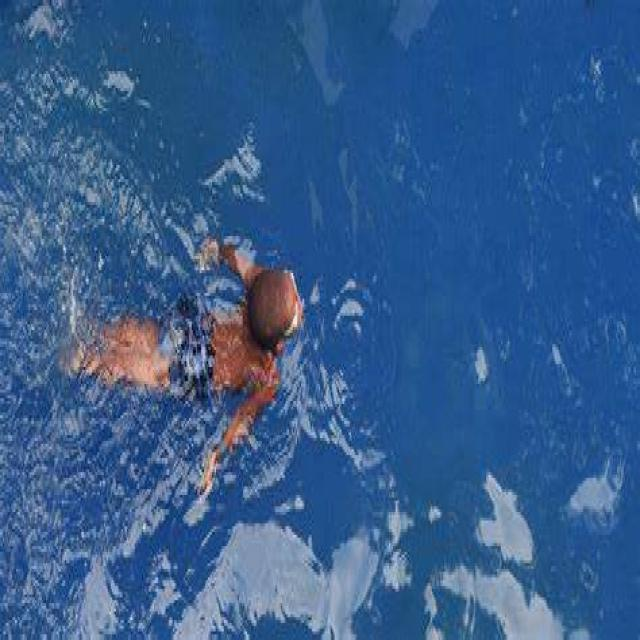swimming: (70, 238, 322, 482)
